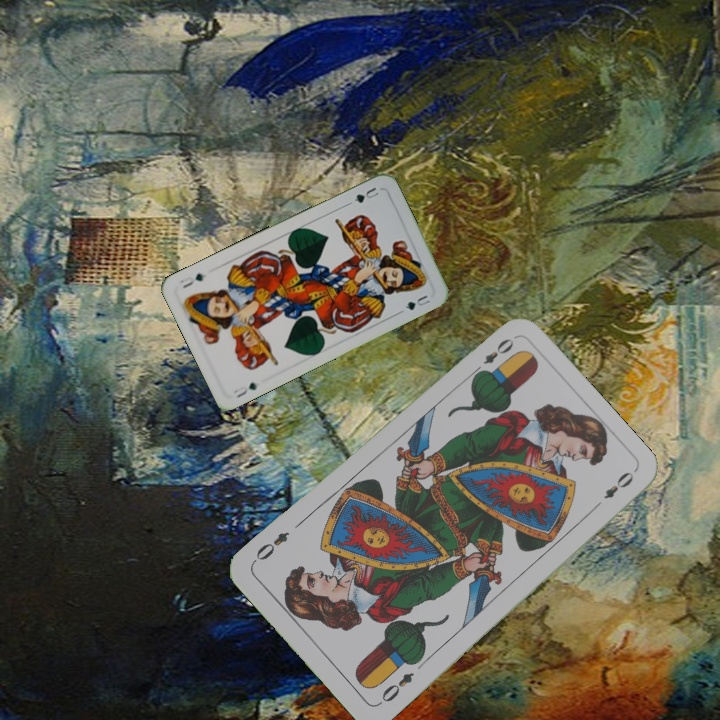EO: (468, 333, 517, 379), (374, 668, 417, 708)
GU: (350, 183, 382, 206), (230, 378, 260, 400)
